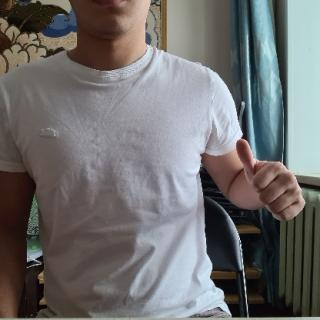ALIF: (235, 134, 311, 228)
